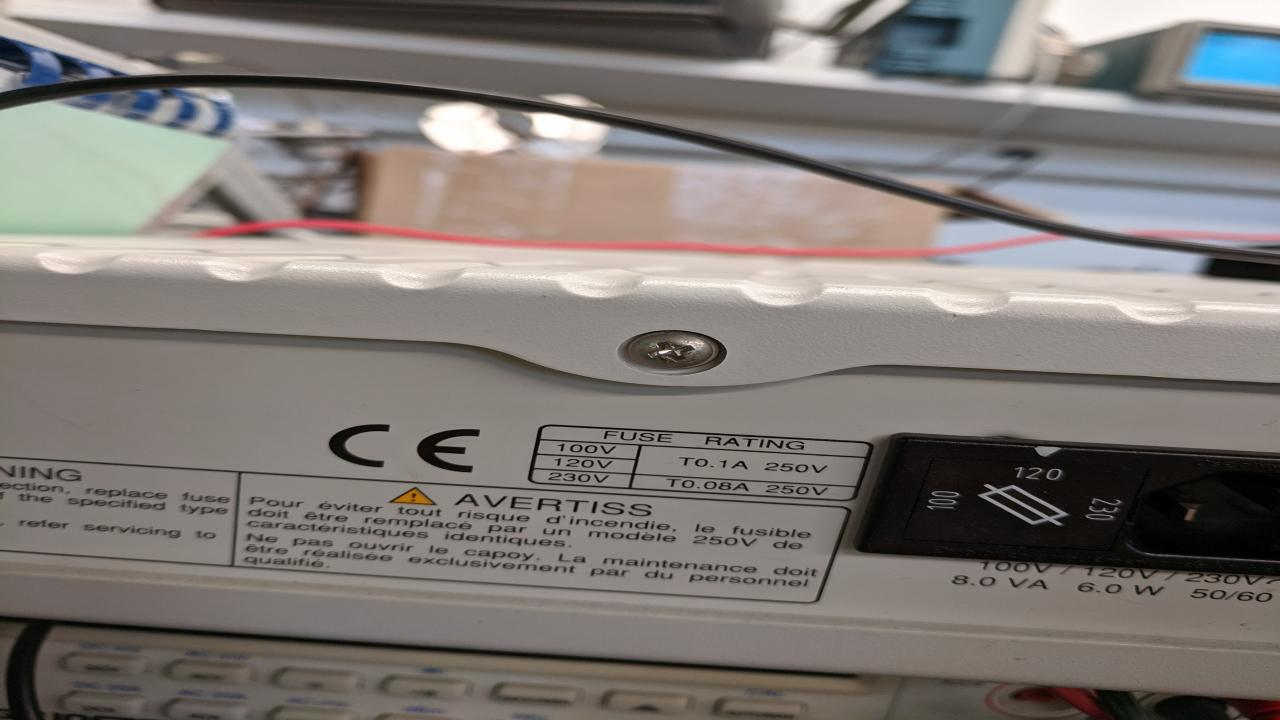CRS: (623, 327, 726, 373)
